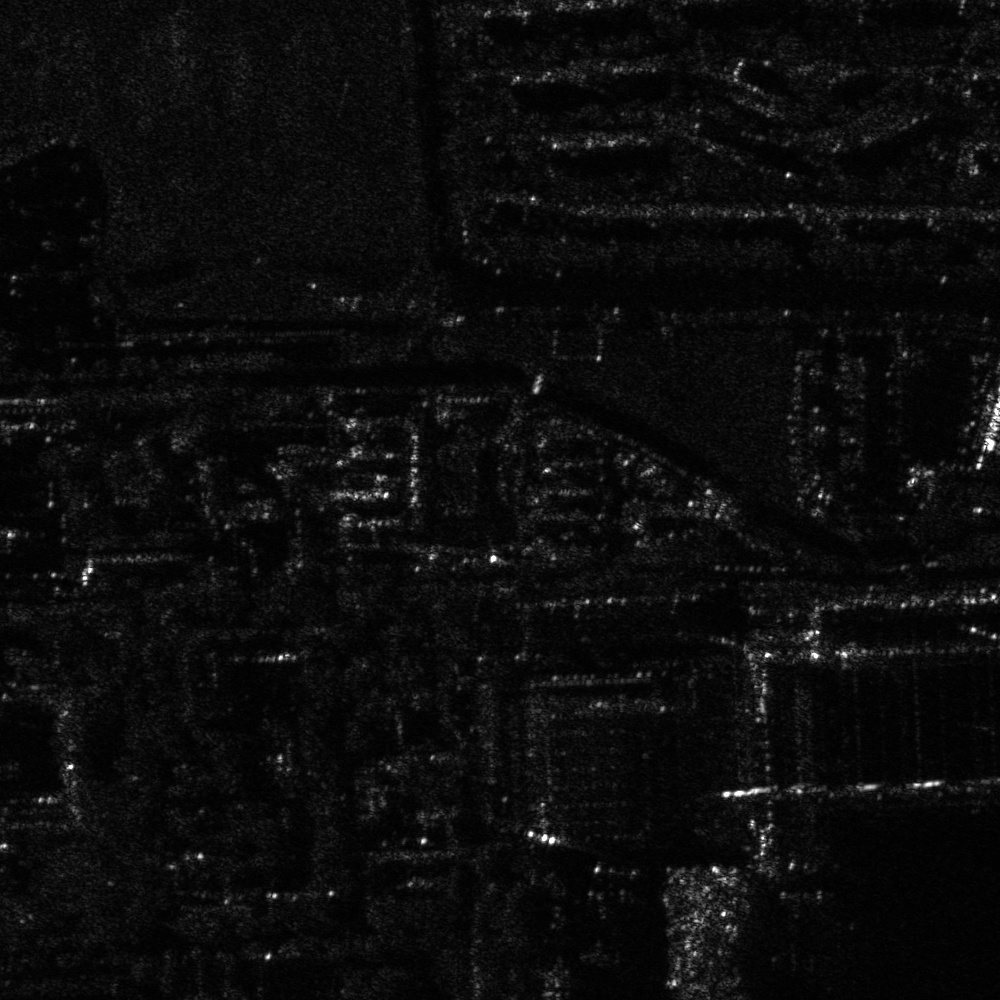Boeing737: (738, 856, 857, 974), (545, 863, 660, 969)
